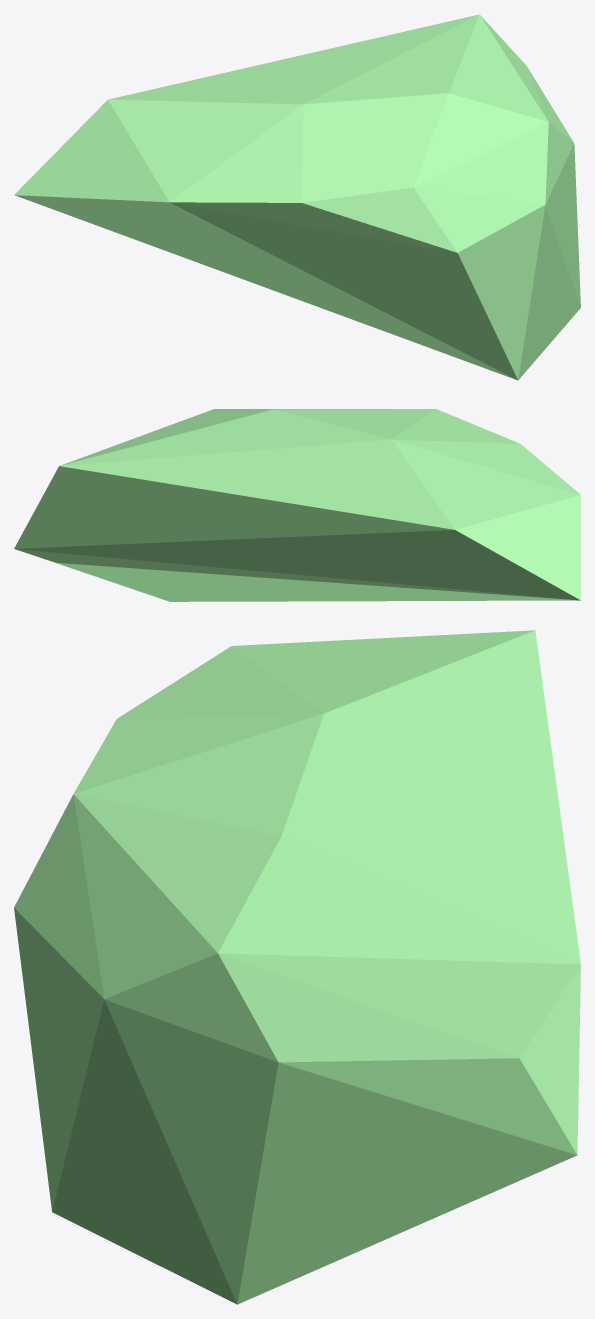
File: linkhou_LR4_R560_link2_respondable_coll_13.dae
The picture shows the model from 3 angles, top to bottom: view 1: azimuth 30°, elevation 25°; view 2: azimuth 150°, elevation 25°; view 3: azimuth 270°, elevation 25°; orthographic projection. The views are drawn at different scales.
Parts seen in each view (by area): view 1: Node_00000298084313B0; view 2: Node_00000298084313B0; view 3: Node_00000298084313B0.
Part boxes in pixels (x1,y1,x2,y2): Node_00000298084313B0: (14, 14, 580, 380); Node_00000298084313B0: (14, 409, 580, 601); Node_00000298084313B0: (14, 630, 580, 1304).
Bounding box in the file's own units: 0.13 × 0.0563 × 0.073.
